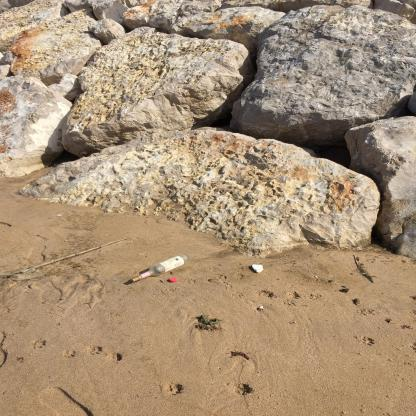cam: (138, 254, 191, 281)
kopuk: (253, 265, 265, 274)
plastik: (170, 279, 178, 284)
